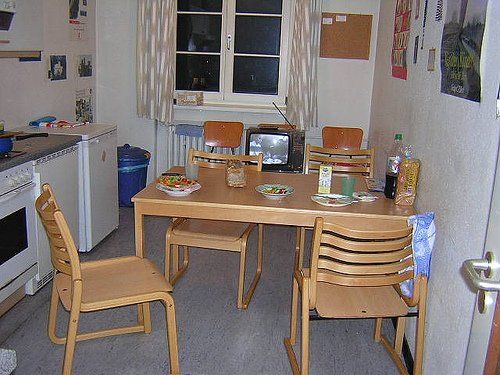bottle: (397, 134, 420, 209), (386, 135, 402, 201), (386, 156, 400, 198)
chair: (37, 189, 184, 375), (298, 217, 422, 374), (166, 219, 254, 306), (306, 127, 375, 194), (464, 256, 500, 374), (306, 126, 373, 171), (202, 122, 246, 154)
cup: (226, 165, 248, 189), (320, 166, 332, 194), (186, 164, 200, 181)
dining table: (134, 158, 424, 328), (136, 159, 420, 261)
tv: (250, 133, 304, 173)
